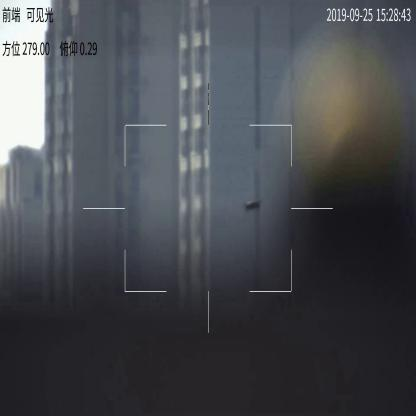uav: (242, 198, 260, 210)
